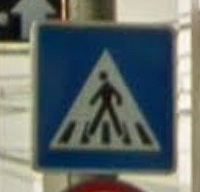trecere_pietoni: (29, 18, 180, 177)
